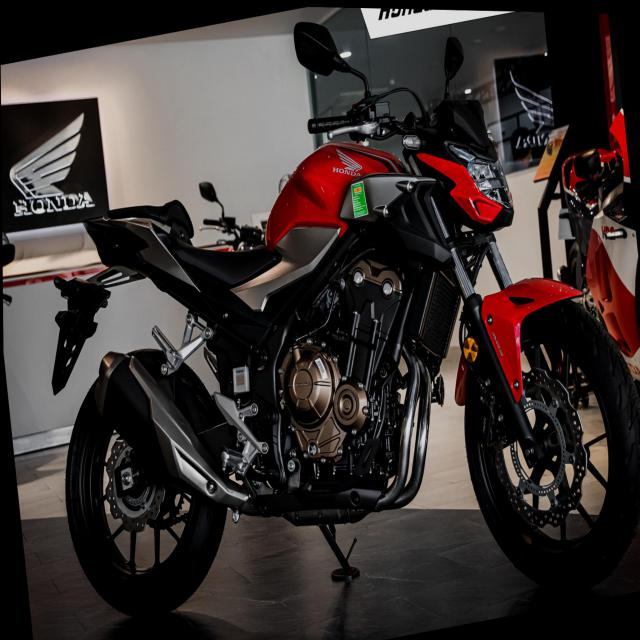CB500F: (19, 0, 640, 640)
